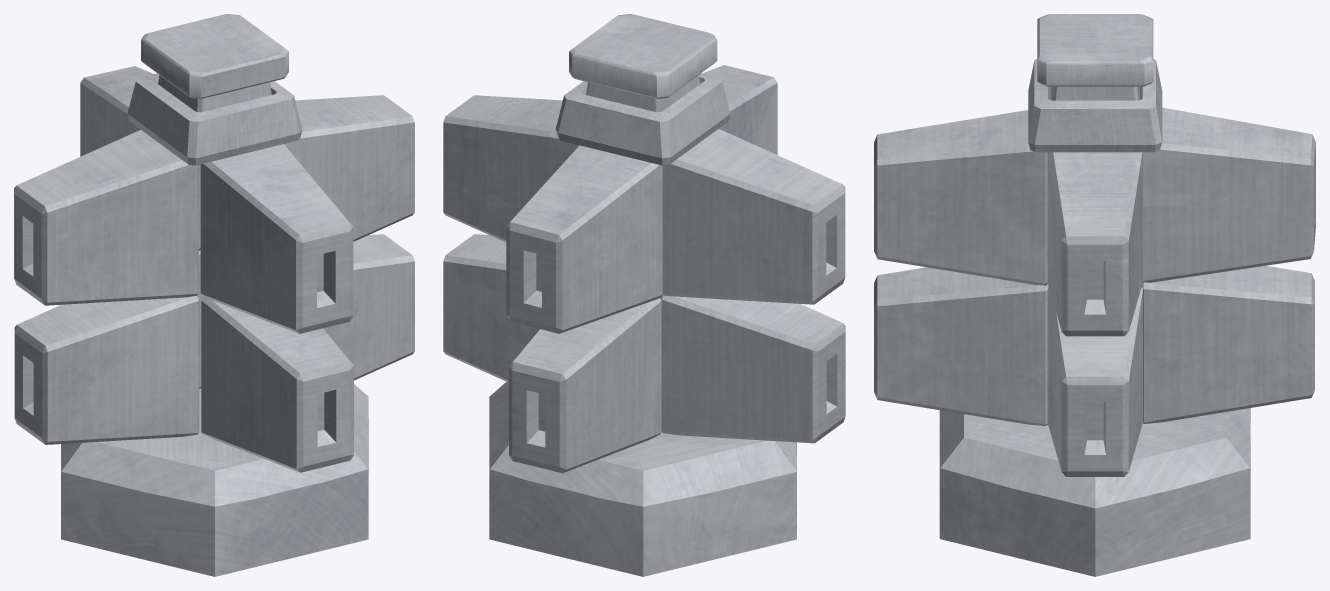
Rendered from laser_emitter.fbx.
The picture shows the model from 3 angles, left to right: view 1: azimuth 30°, elevation 25°; view 2: azimuth 150°, elevation 25°; view 3: azimuth 270°, elevation 25°; orthographic projection.
Visible parts, largest first — view 1: emitter, base, top; view 2: emitter, base, top; view 3: emitter, base, top.
Boxes of the visible parts, <box> form: emitter: <box>14,66,414,472</box>; base: <box>61,384,368,576</box>; top: <box>127,14,302,165</box>; emitter: <box>443,65,845,473</box>; base: <box>489,382,796,576</box>; top: <box>555,14,730,165</box>; emitter: <box>874,107,1315,476</box>; base: <box>939,408,1250,576</box>; top: <box>1028,14,1162,152</box>.
Bounding box in the file's own units: 316 × 370 × 320.
